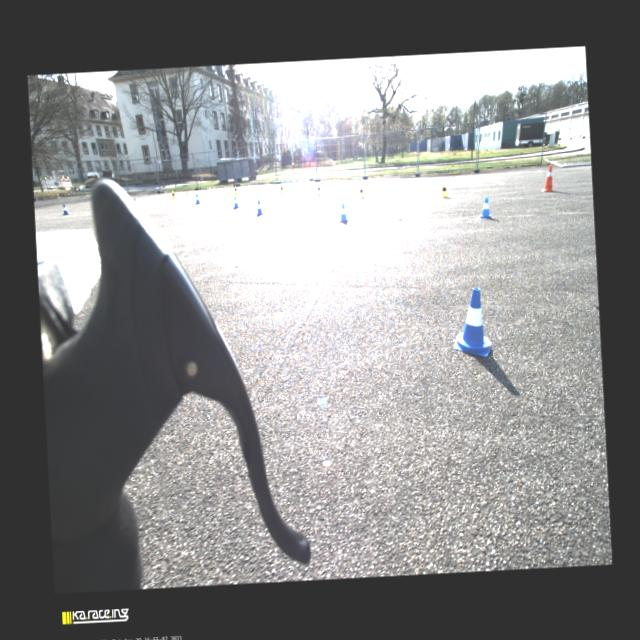blue_cone: (450, 286, 492, 358), (478, 196, 494, 220), (338, 203, 348, 222), (256, 200, 264, 215), (61, 204, 70, 215), (232, 196, 240, 208), (194, 193, 200, 204)
large_orange_cone: (540, 165, 554, 192)
yellow_cone: (440, 183, 448, 198), (358, 186, 366, 198), (317, 186, 322, 197), (233, 184, 238, 194), (171, 190, 176, 200), (280, 185, 284, 195)
